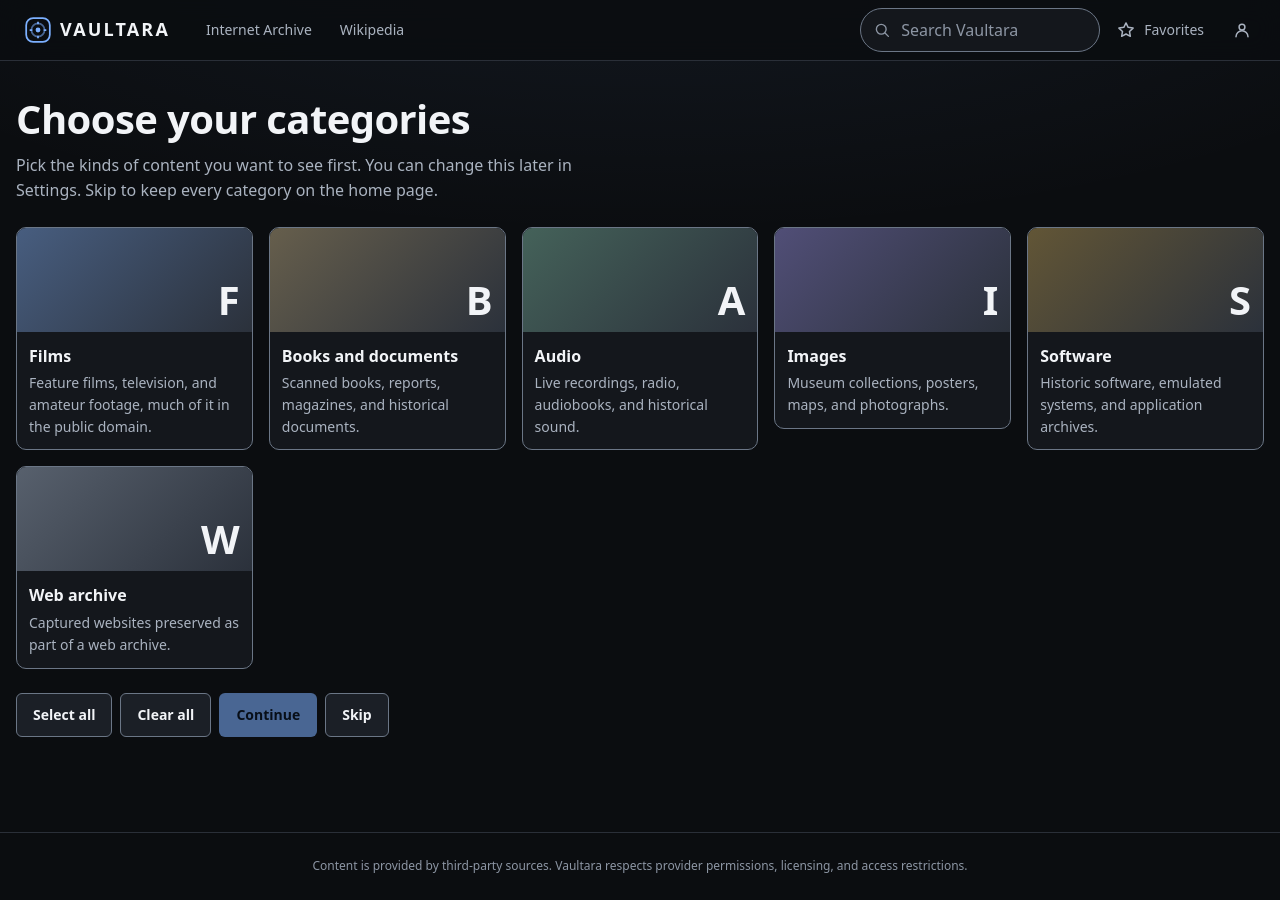
it: onboarding › builds the home page around the selected categories
This screenshot has width=1280, height=900.
Expected: the heading "Choose your categories" is shown, x1=16 y1=91 x2=470 y2=146
Click the button "Films".
click(134, 339)  # box x1=16 y1=227 x2=253 y2=450
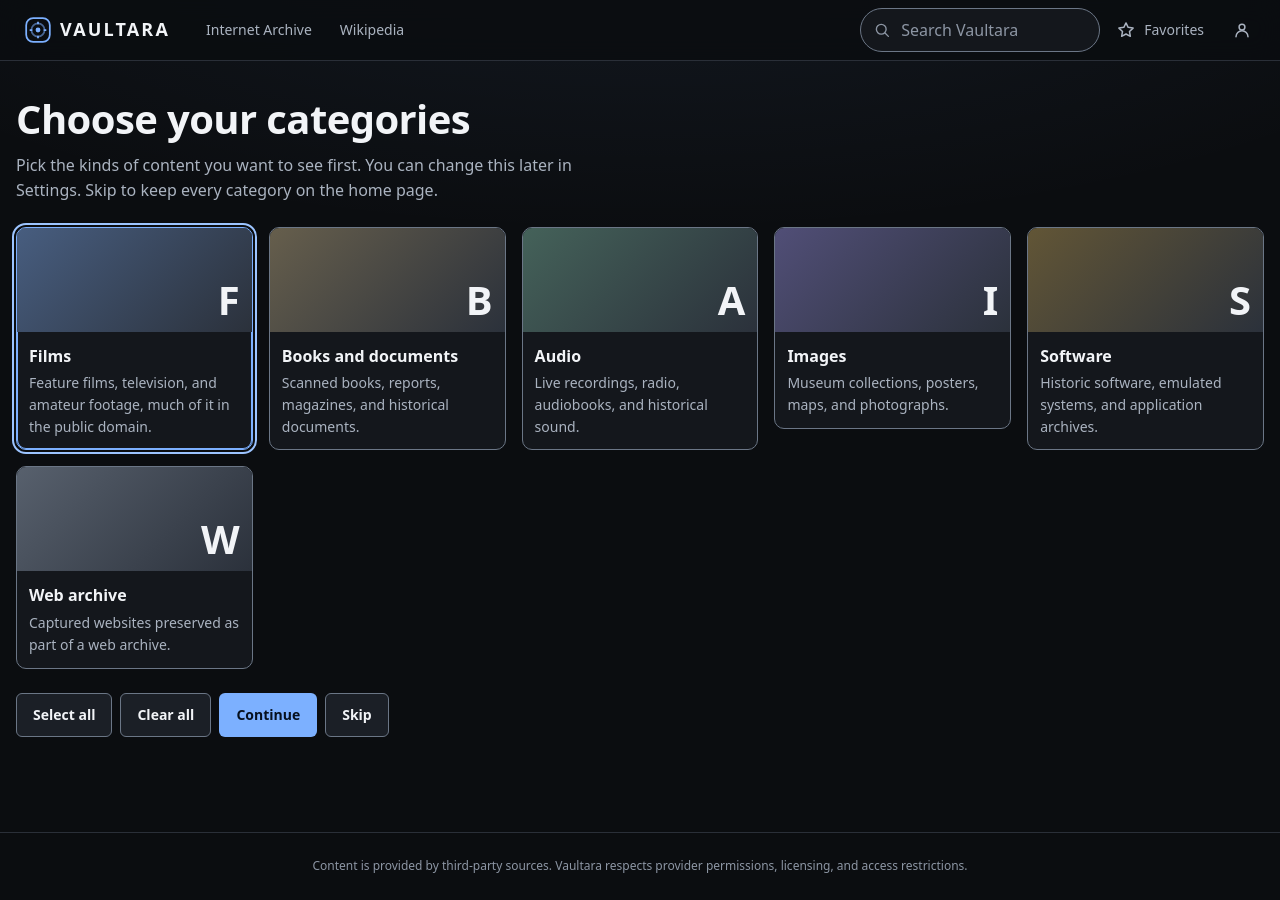
Click the button "Continue".
click(268, 715)  # box x1=219 y1=693 x2=317 y2=737
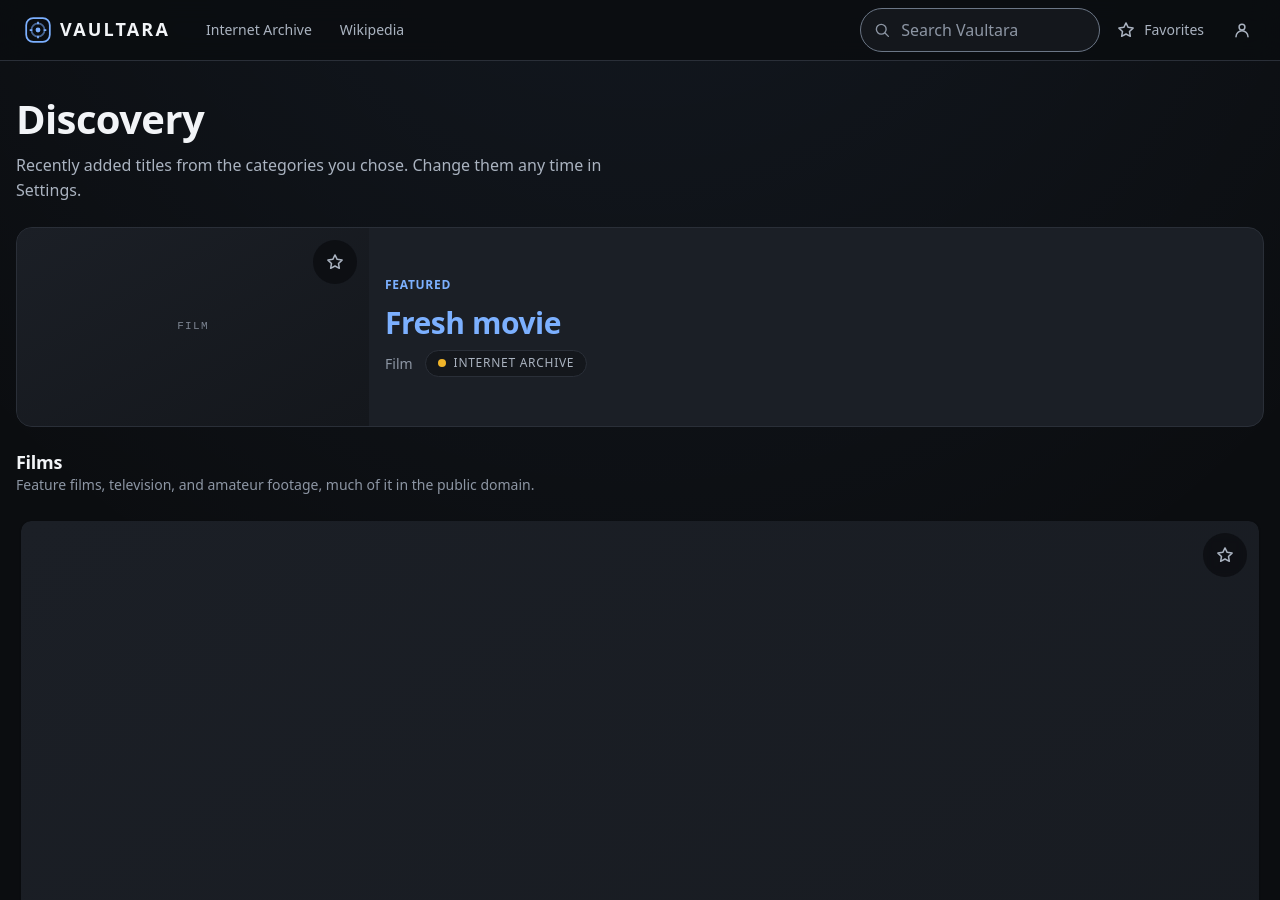
Expected: the heading "Films" is shown, x1=16 y1=450 x2=62 y2=474
Result: the heading "Discovery" is shown at x1=16 y1=91 x2=204 y2=146
Result: the button "Books and documents" is gone
